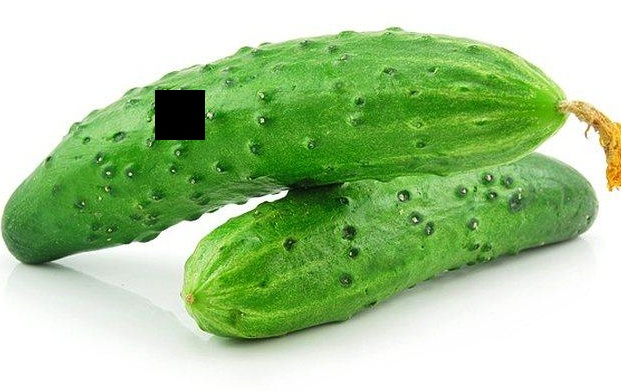cucumber: (11, 20, 570, 261), (200, 157, 593, 331)
